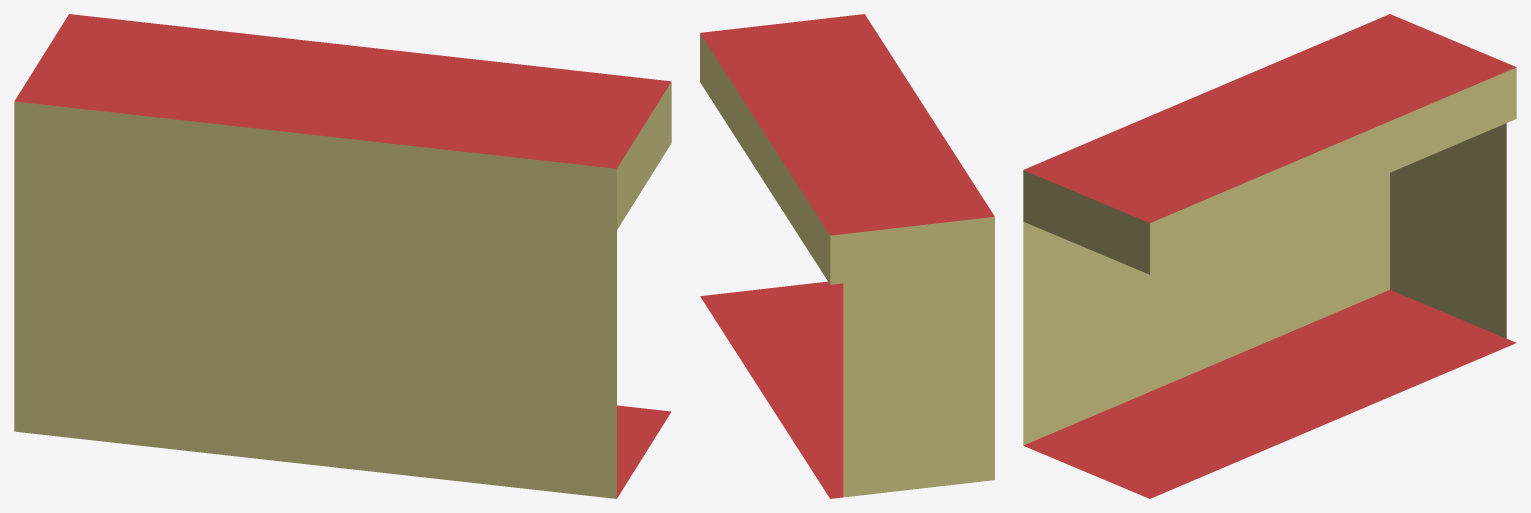
The picture shows the model from 3 angles, left to right: view 1: azimuth 30°, elevation 25°; view 2: azimuth 150°, elevation 25°; view 3: azimuth 270°, elevation 25°; orthographic projection. The views are drawn at different scales.
Bounding box in the file's own units: 18.47 × 18.42 × 11.35.
